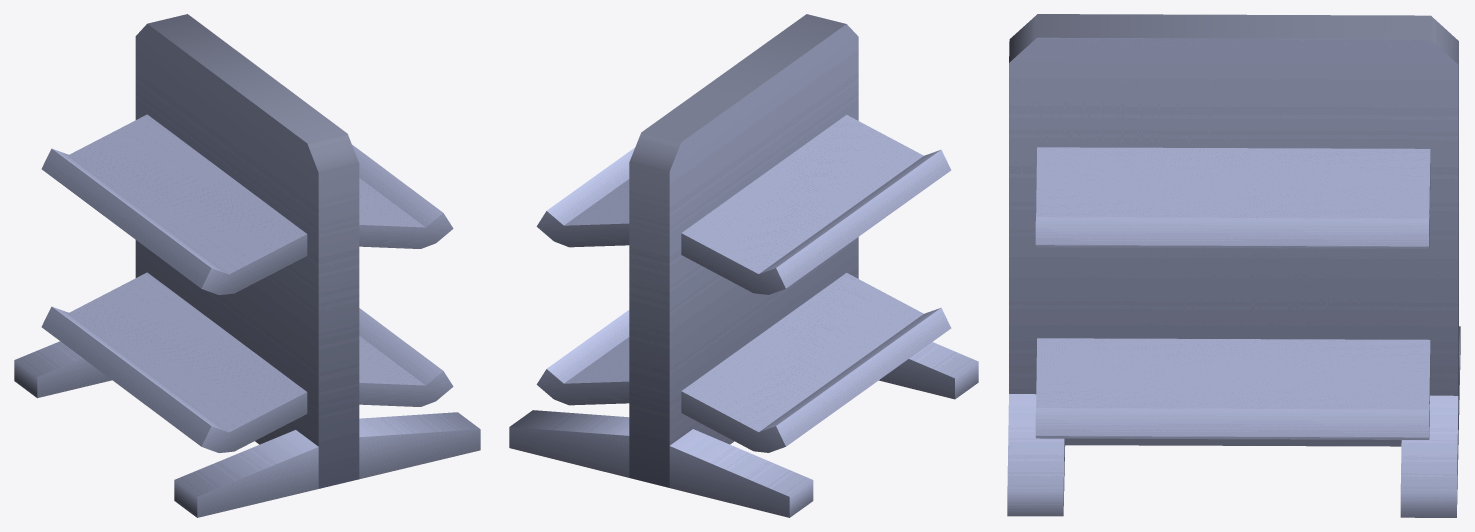
The model's file is shelf-bags.008_lev2.glb.
The picture shows the model from 3 angles, left to right: view 1: azimuth 30°, elevation 25°; view 2: azimuth 150°, elevation 25°; view 3: azimuth 270°, elevation 25°; orthographic projection. The views are drawn at different scales.
Visible parts, largest first — view 1: shelf-bags.008_lev2; view 2: shelf-bags.008_lev2; view 3: shelf-bags.008_lev2.
Boxes of the visible parts, x1,y1,x2,y2 form: shelf-bags.008_lev2: (14,14,480,517); shelf-bags.008_lev2: (509,14,978,517); shelf-bags.008_lev2: (1007,14,1460,517).
Size of the model in its own units: 3.54 by 4 by 4.03.
1 material, 1 textured.
